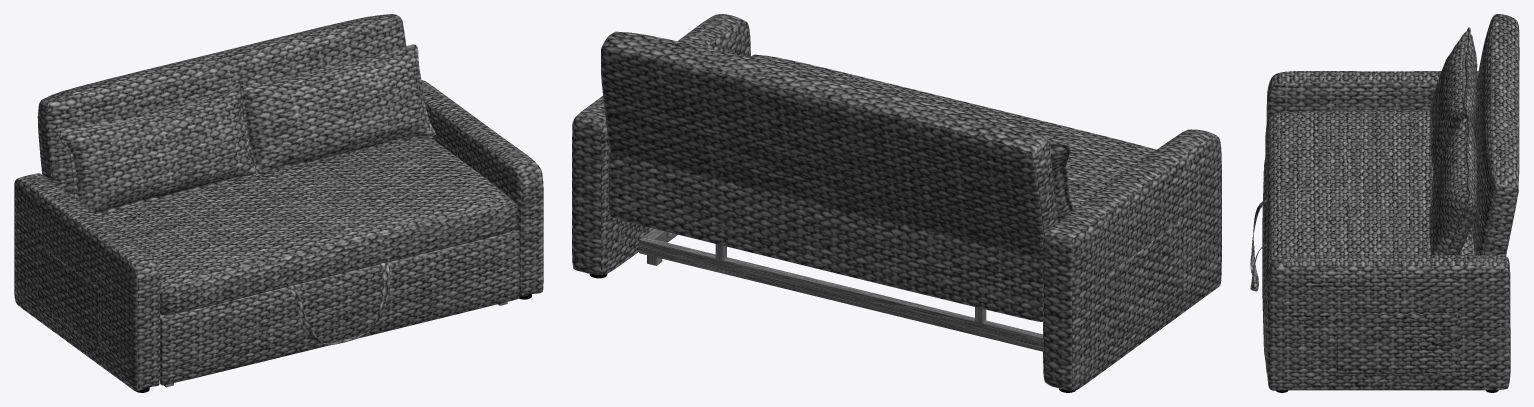
Rendered from modern-convertible-sofa-with-pullout-bed.obj.
The picture shows the model from 3 angles, left to right: view 1: azimuth 30°, elevation 25°; view 2: azimuth 150°, elevation 25°; view 3: azimuth 270°, elevation 25°; orthographic projection. The views are drawn at different scales.
Visible parts, largest first — view 1: Body; view 2: Body, Iron_parts; view 3: Body.
Boxes of the visible parts, x1,y1,x2,y2 form: Body: (14, 14, 543, 391); Body: (572, 14, 1221, 390); Iron_parts: (639, 228, 1042, 351); Body: (1250, 14, 1519, 390).
Size of the model in its own units: 4.15 by 1.99 by 2.36.
Materials: 3 (2 with a texture image).
